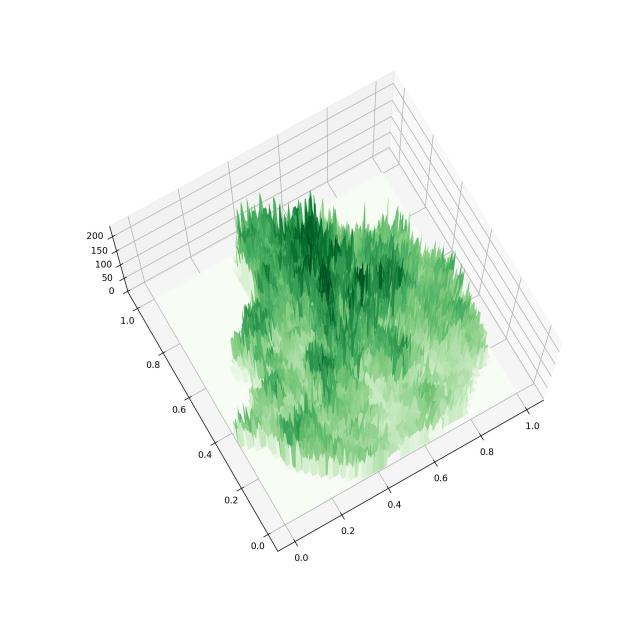spruce: (70, 34, 572, 590)
